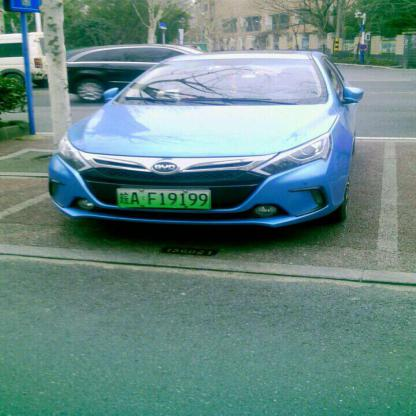lp: (117, 189, 210, 208)
